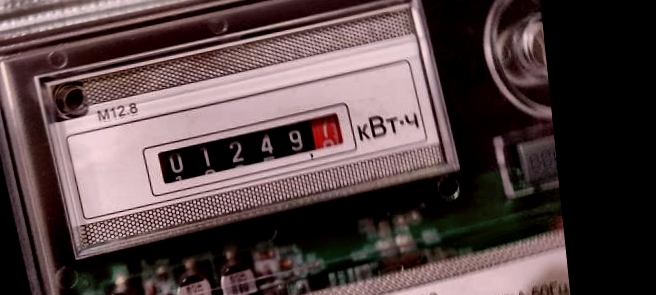0: (164, 146, 186, 174)
1: (196, 142, 213, 169)
2: (225, 137, 248, 165)
4: (257, 128, 277, 157)
7: (315, 114, 333, 139)
9: (285, 125, 306, 152)
screen: (134, 102, 373, 201)
